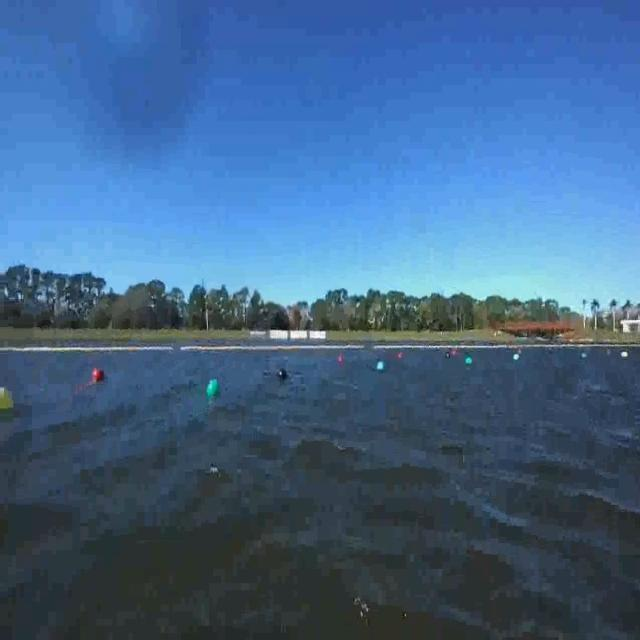black-buoy: (279, 367, 287, 380)
green-buoy: (208, 377, 220, 396), (378, 360, 386, 372), (468, 356, 475, 366), (465, 356, 472, 365)
red-buoy: (94, 368, 105, 382)
yellow-buoy: (0, 385, 14, 409)
